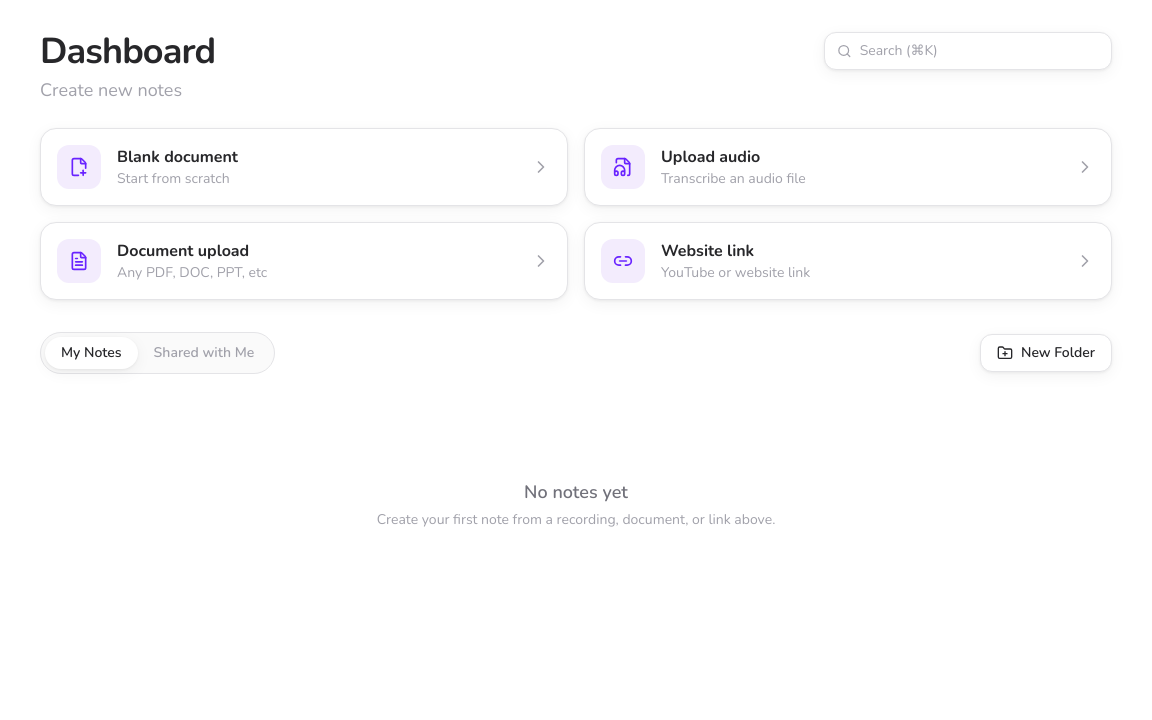
Dashboard — New Folder › creates and persists a folder when the button is clicked and a name submitted
The width and height of the screenshot is (1152, 720).
expect the button "Biology" is not shown: met
Click the button "New Folder" at (1046, 353), box [980,334,1112,372]
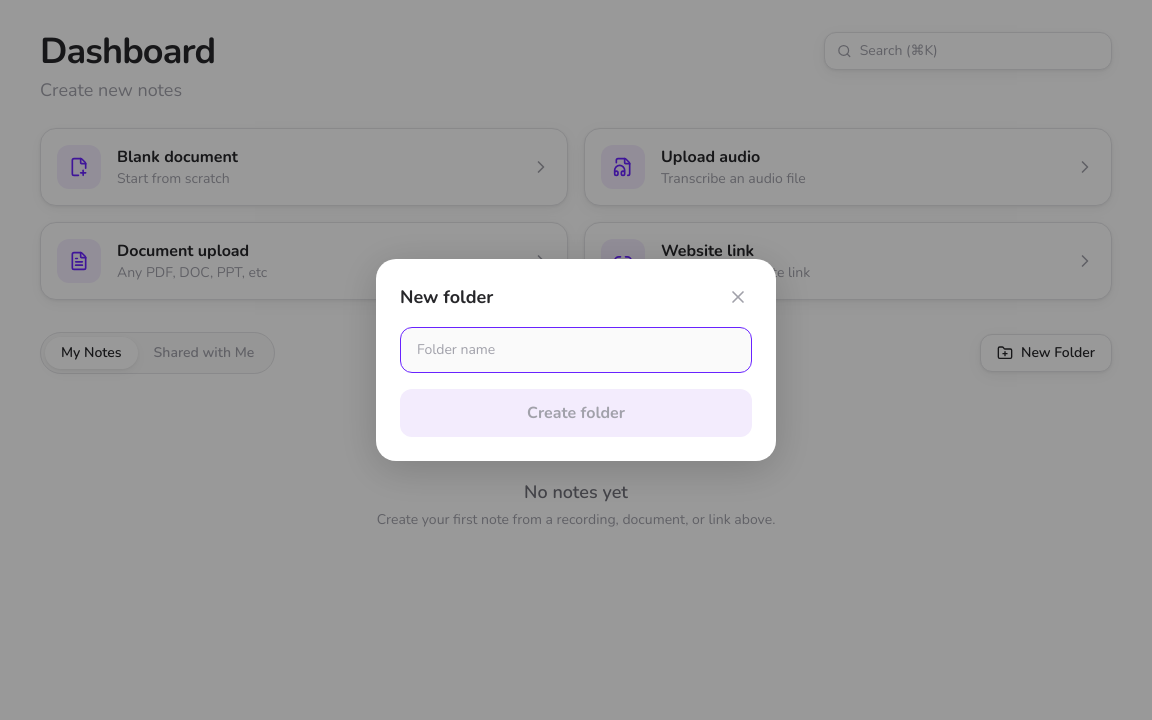
Type "Biology" into the field with placeholder "Folder name" at (576, 350), box [400,327,752,373]
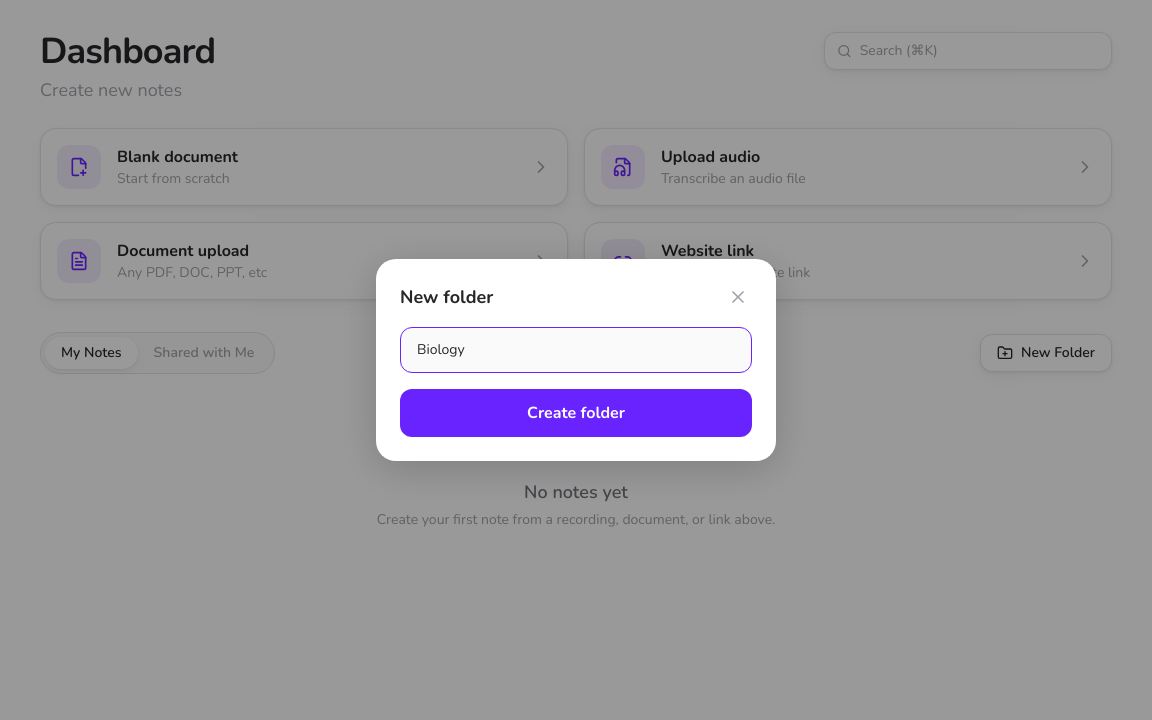
Click the button "Create folder" at (576, 413), box [400,389,752,437]
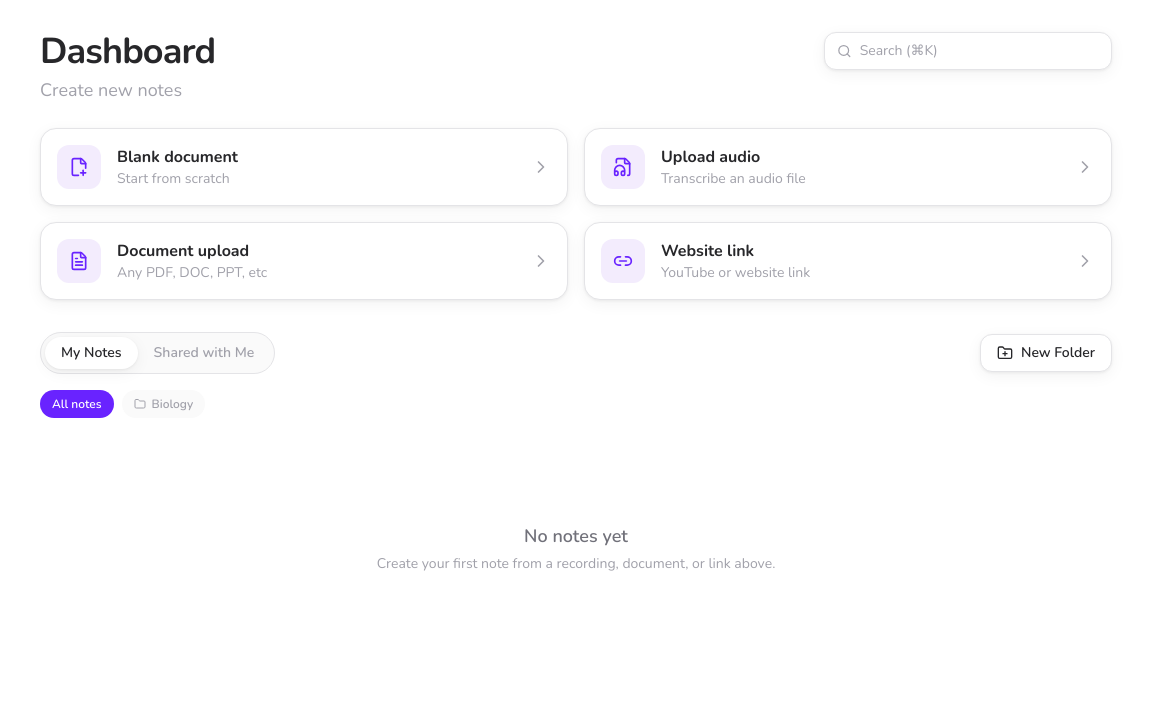
expect the button "Biology" is shown: met, box [122,390,205,418]
